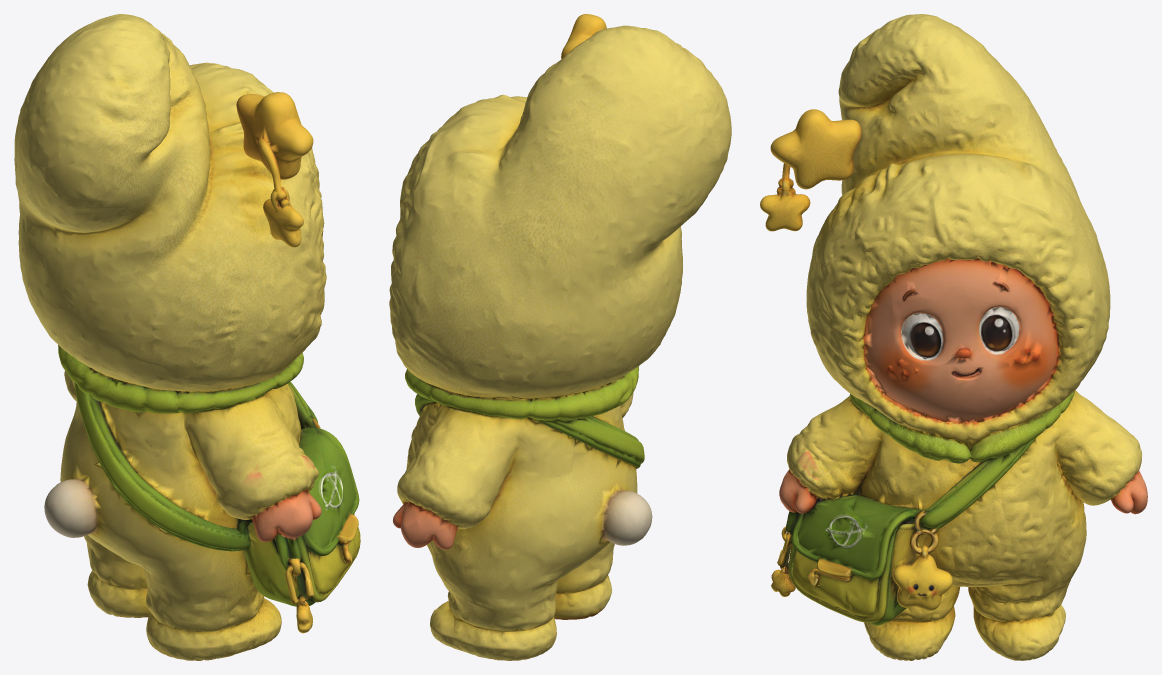
3 renders of one model, left to right at view 1: azimuth 30°, elevation 25°; view 2: azimuth 150°, elevation 25°; view 3: azimuth 270°, elevation 25°, orthographic. The views are drawn at different scales.
Visible parts, largest first — view 1: tripo_node_bb373e7a-c27a-4bfa-83a4-ecbc61e19614; view 2: tripo_node_bb373e7a-c27a-4bfa-83a4-ecbc61e19614; view 3: tripo_node_bb373e7a-c27a-4bfa-83a4-ecbc61e19614.
Part boxes in pixels (x1,y1,x2,y2): tripo_node_bb373e7a-c27a-4bfa-83a4-ecbc61e19614: (14, 14, 360, 660); tripo_node_bb373e7a-c27a-4bfa-83a4-ecbc61e19614: (389, 14, 731, 660); tripo_node_bb373e7a-c27a-4bfa-83a4-ecbc61e19614: (760, 14, 1147, 660).
Bounding box in the file's own units: 0.5044 × 0.9788 × 0.5927.
1 material, 1 textured.
